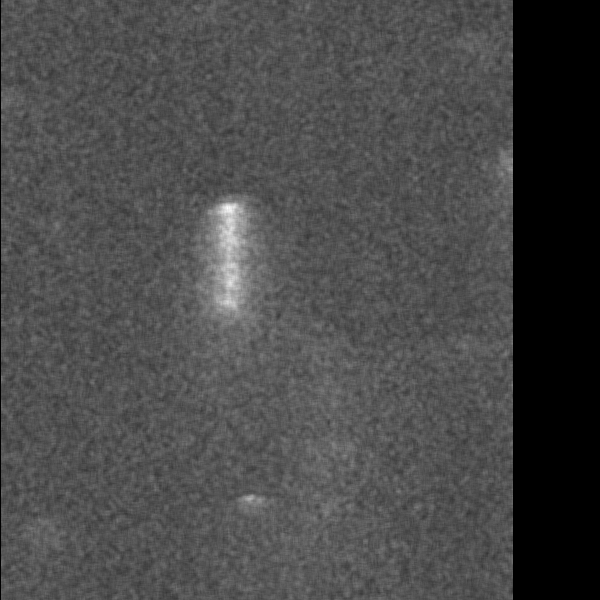spark: (87, 442, 106, 472)
